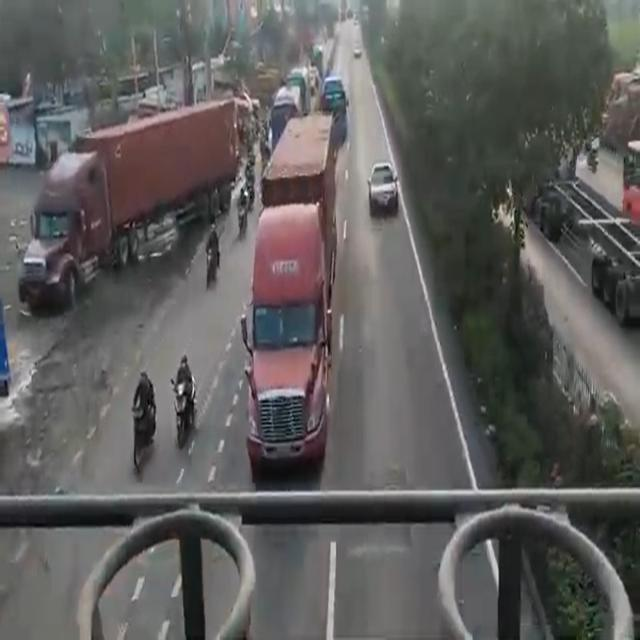car: (369, 161, 401, 220)
motor: (130, 370, 154, 475), (173, 356, 200, 447), (200, 214, 222, 294)
truck: (22, 90, 235, 311), (253, 109, 340, 473)
